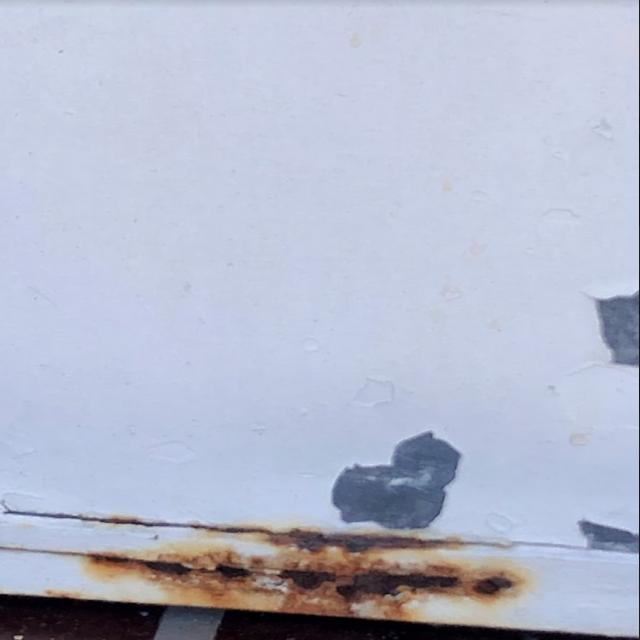Corrosion: (85, 517, 527, 622)
